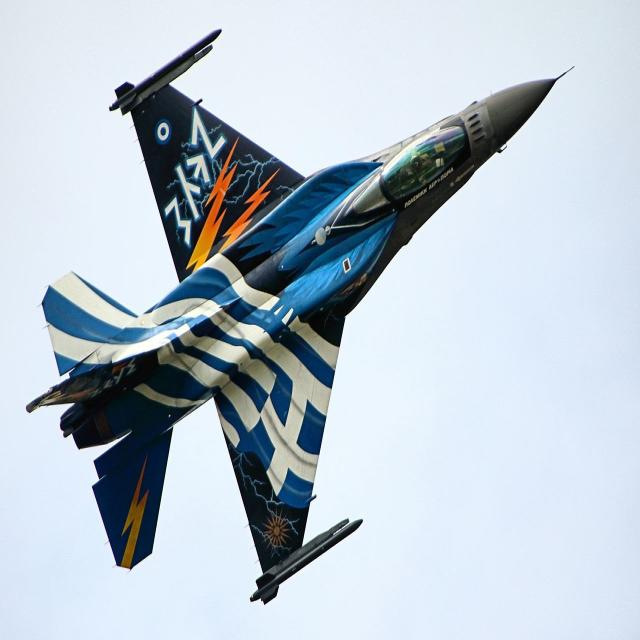MIL_Plane: (26, 28, 574, 607)
